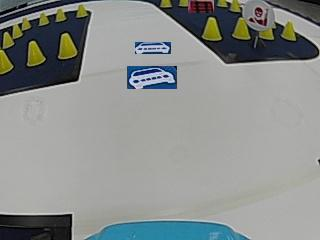evil: (243, 0, 274, 31)
